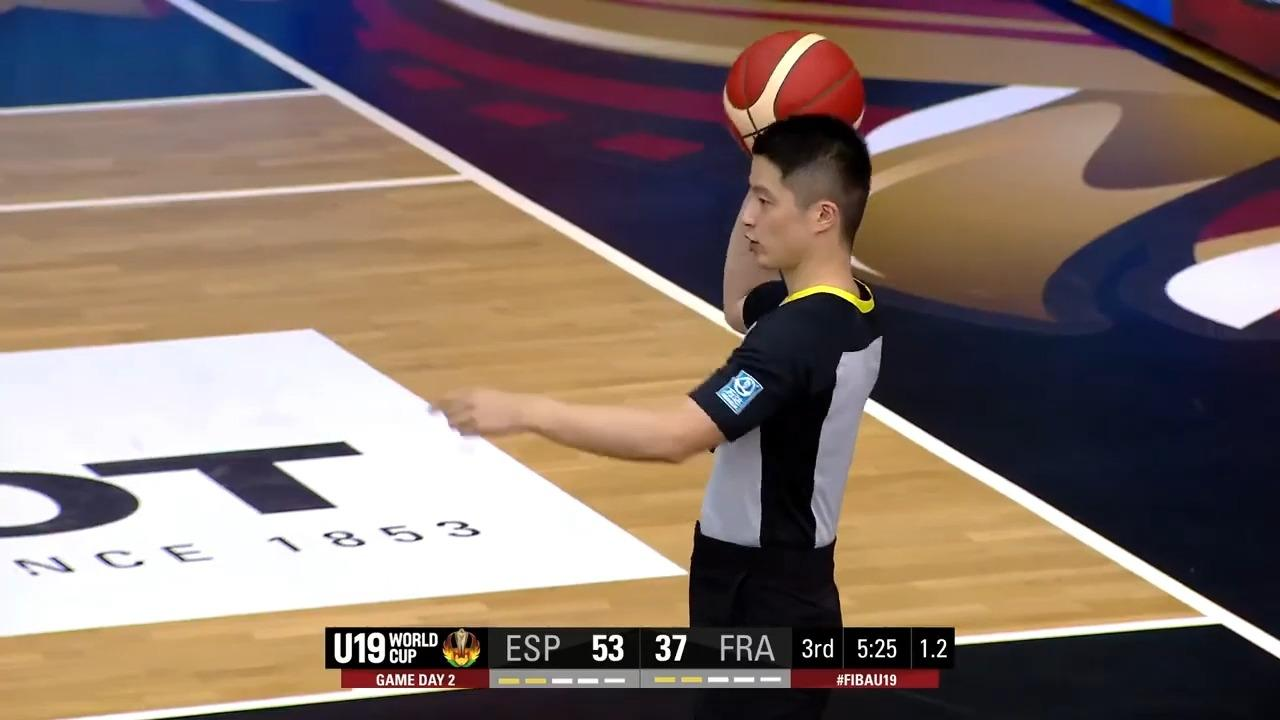ball: (724, 19, 873, 170)
referee: (456, 124, 873, 623)
